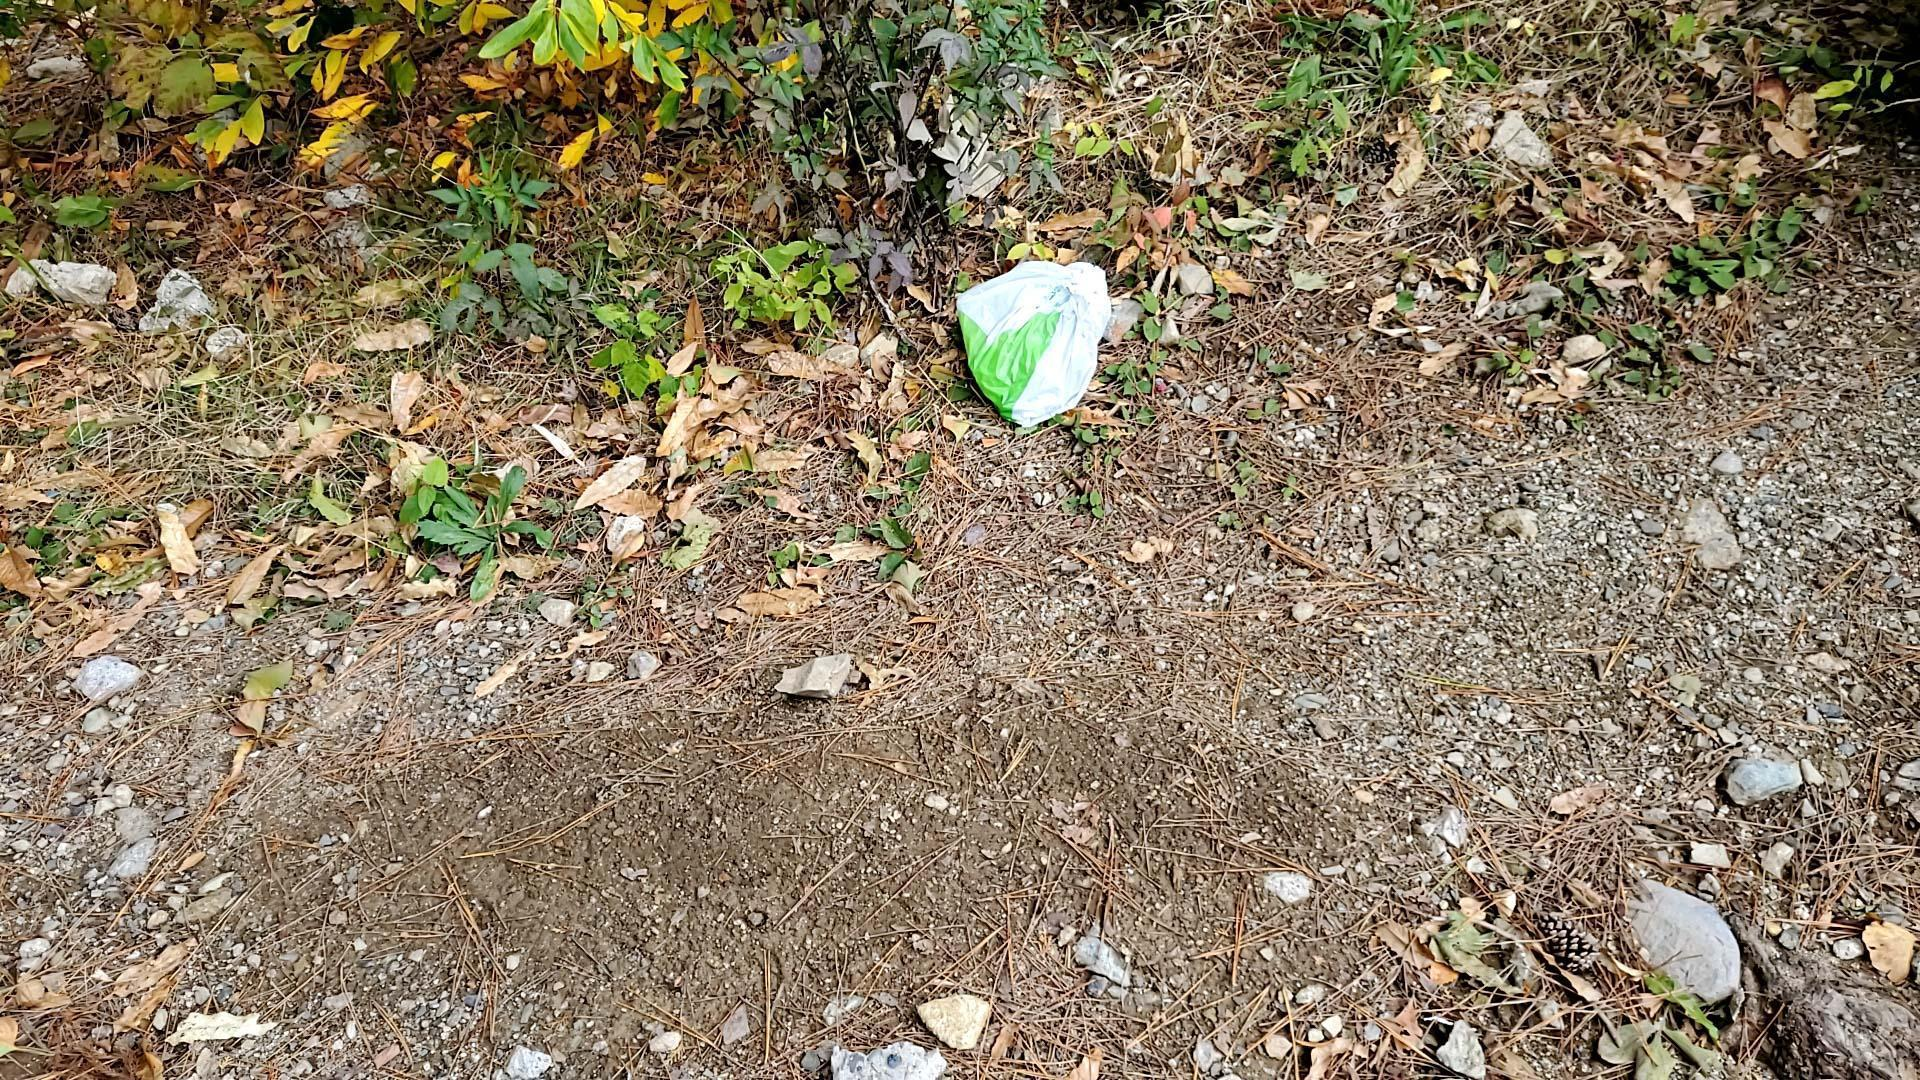white_bag: (940, 247, 1118, 433)
